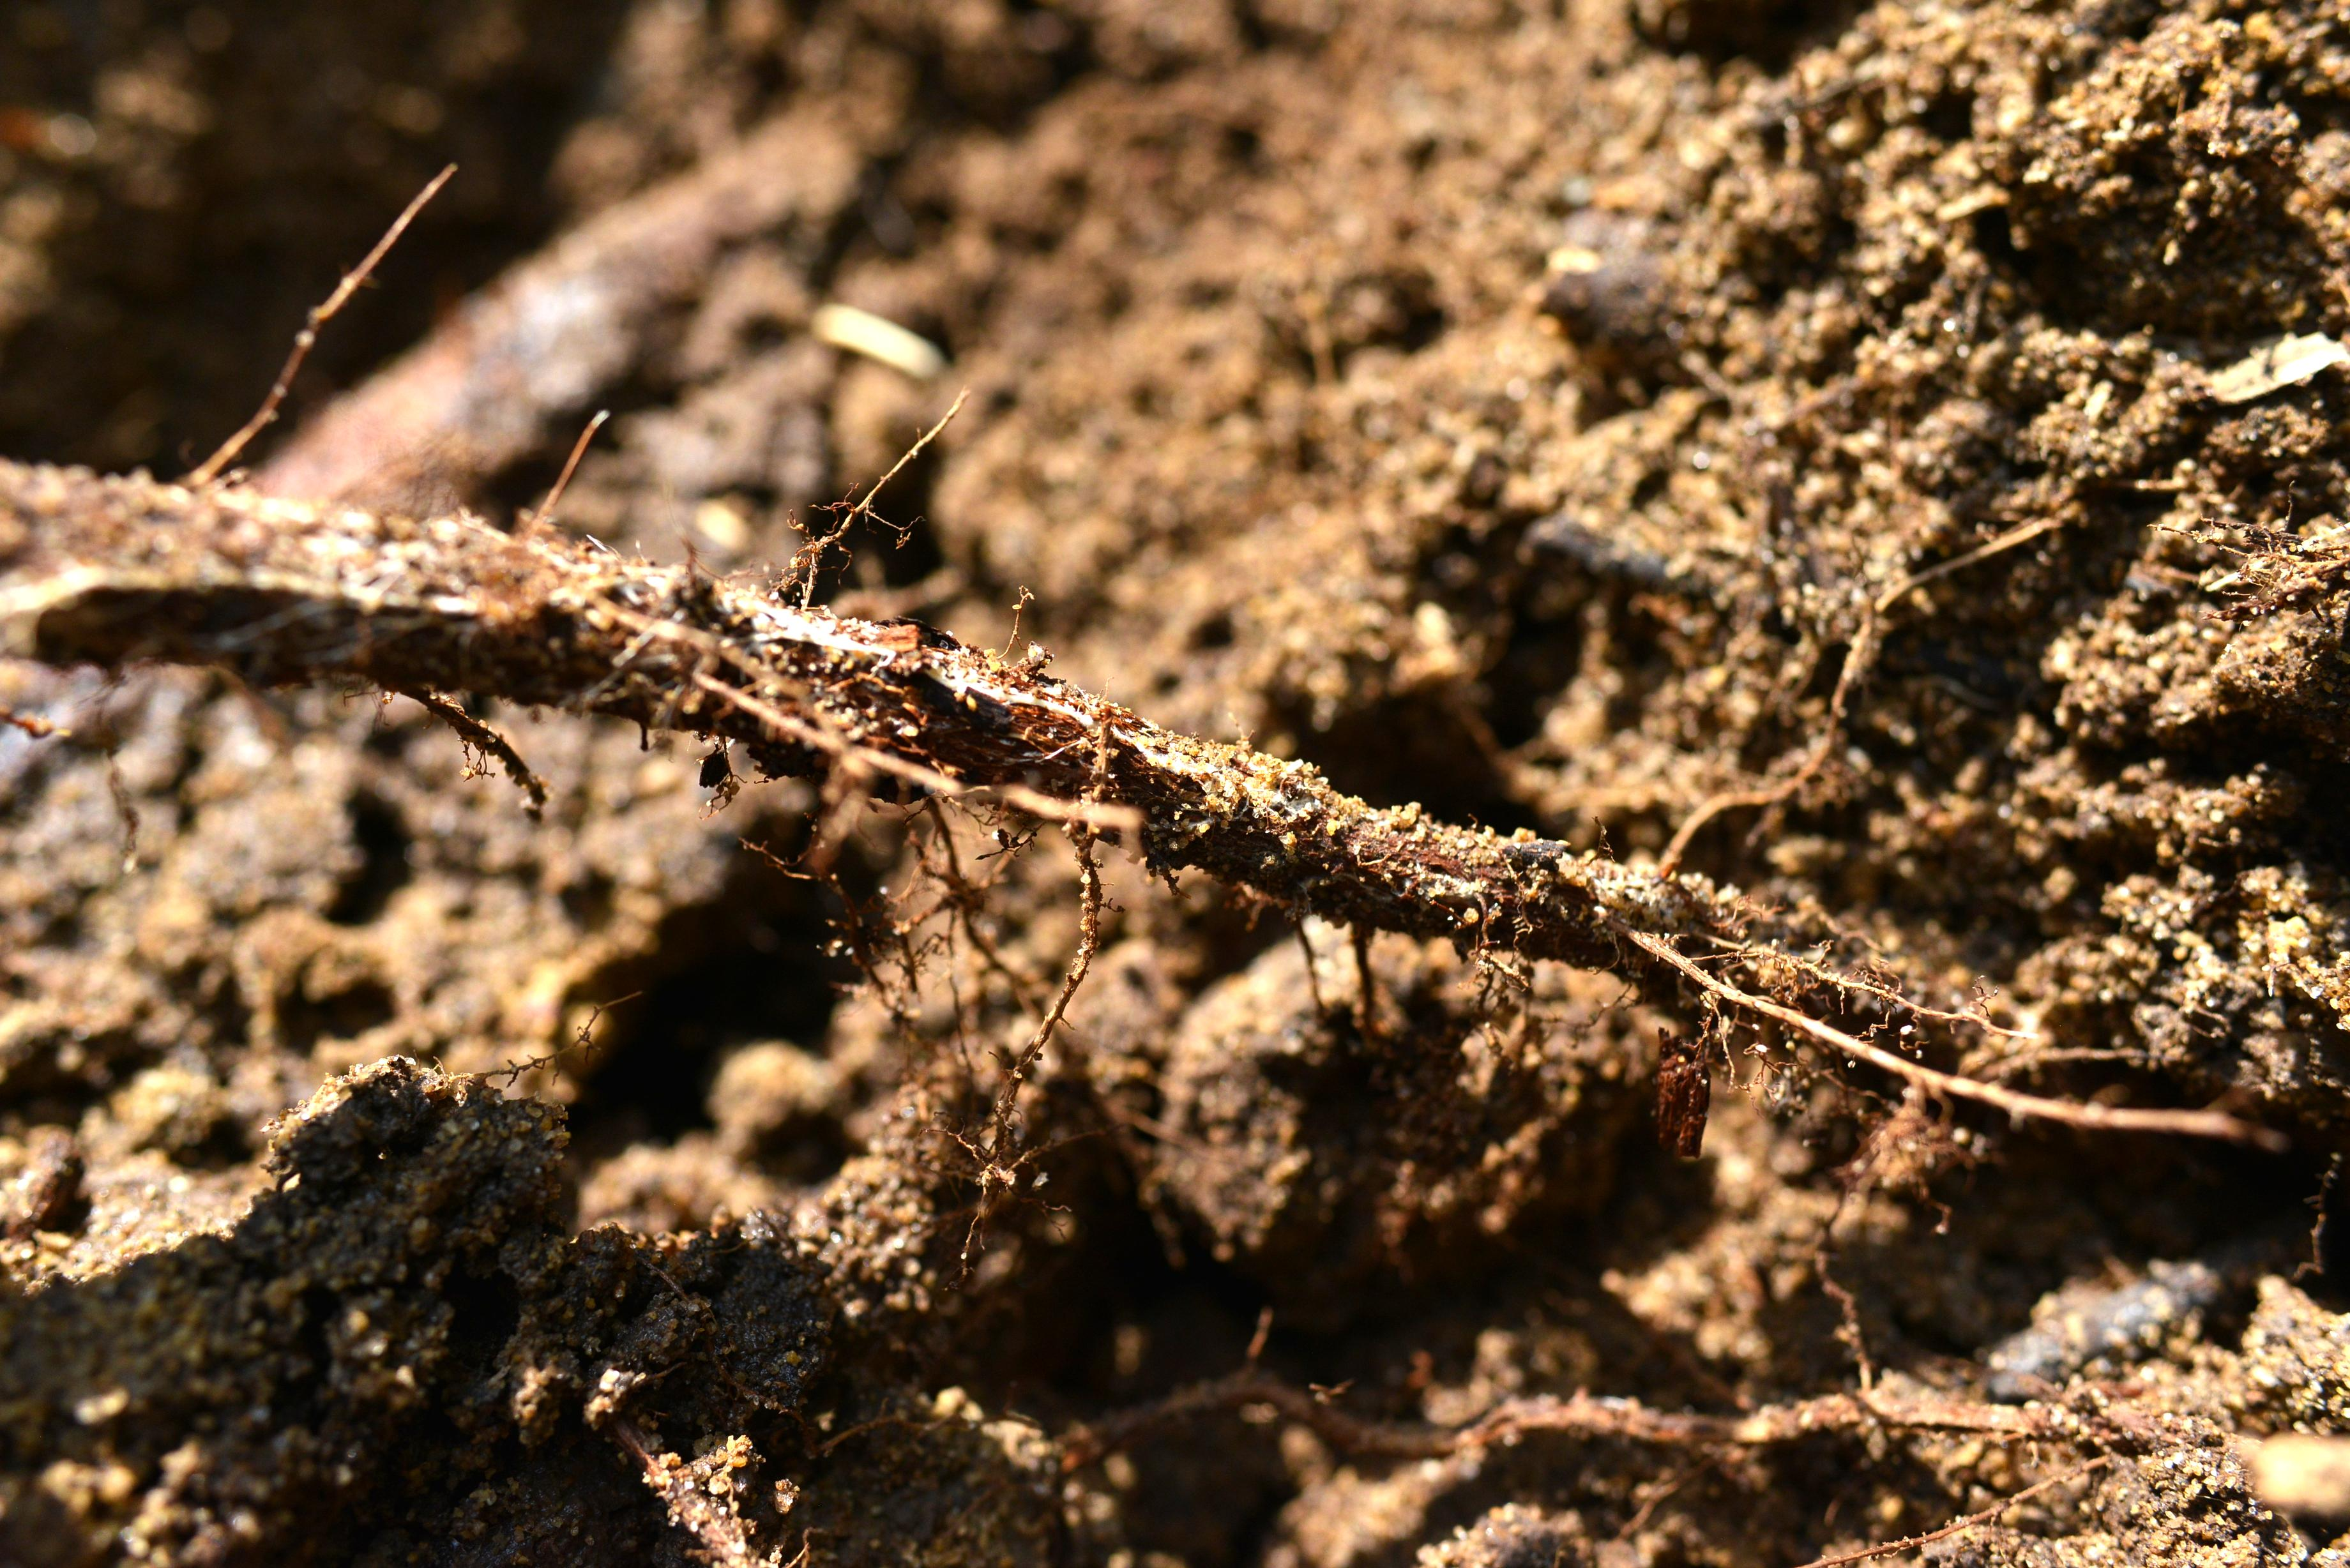Ganoderma - Mycelium: (262, 471, 1501, 934)
